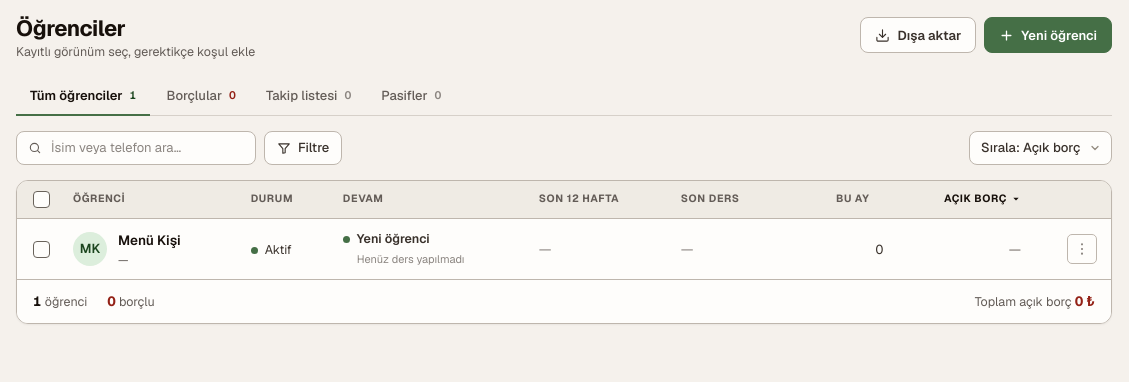
Test: StudentsPage › aktif öğrencinin kebab menüsünde sadece 'Pasife al' var, silme yok
Expected: the text "Menü Kişi" is shown, [118,230,181,250]
Click the button named "İşlemler": (1082, 249) [1067,234,1097,264]
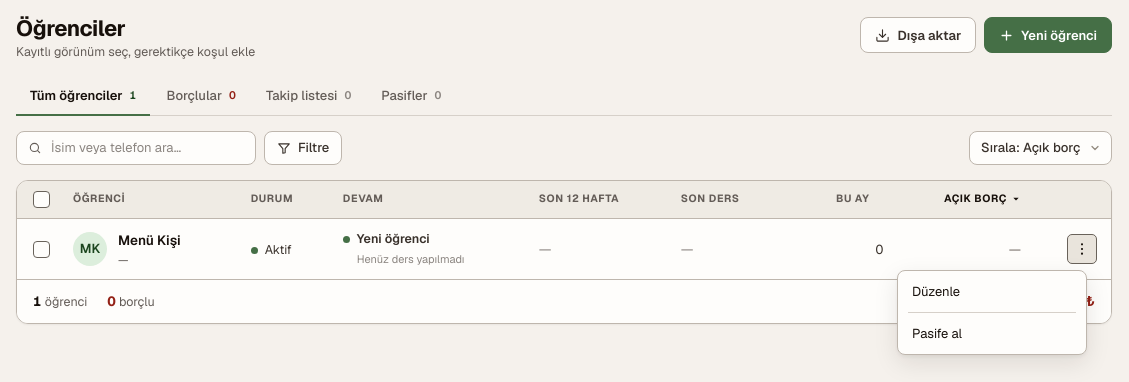
Expected: the menu item "Pasife al" is shown, [902,317,1082,350]
